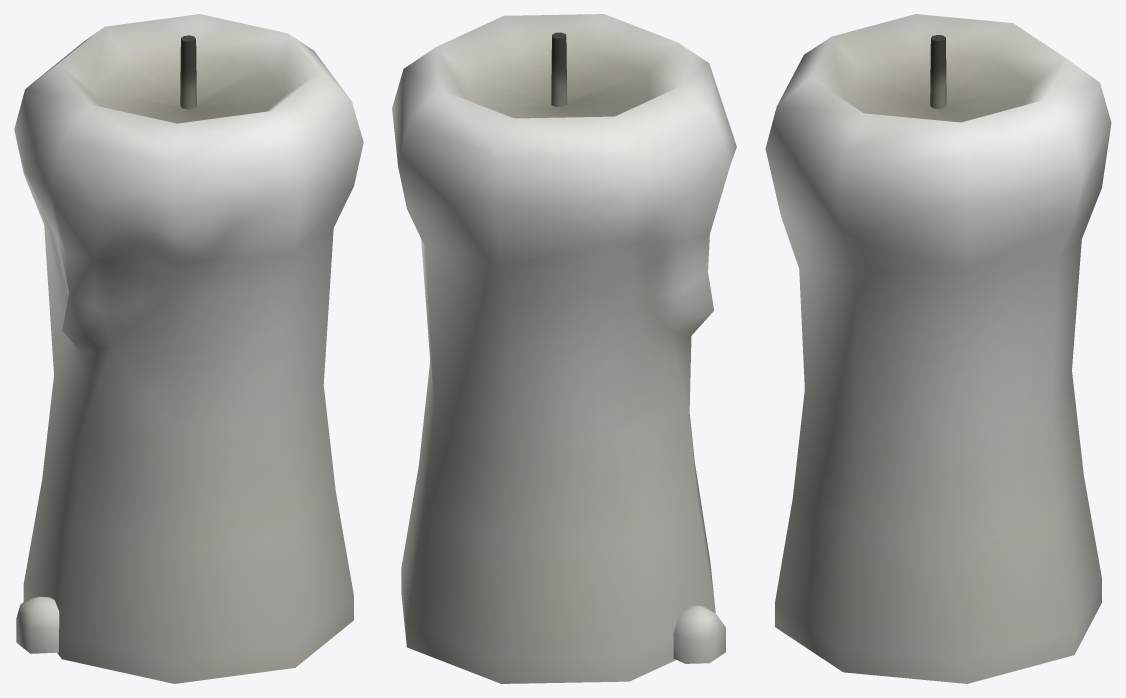
File: candle1.fbx
3 renders of one model, left to right at view 1: azimuth 30°, elevation 25°; view 2: azimuth 150°, elevation 25°; view 3: azimuth 270°, elevation 25°, orthographic.
Visible parts, largest first — view 1: candle_001; view 2: candle_001; view 3: candle_001.
Boxes of the visible parts, bbox=[...] form: candle_001: bbox=[14, 14, 363, 683]; candle_001: bbox=[392, 14, 736, 683]; candle_001: bbox=[765, 14, 1111, 683].
Size of the model in its own units: 13.34 by 23.55 by 12.81.
